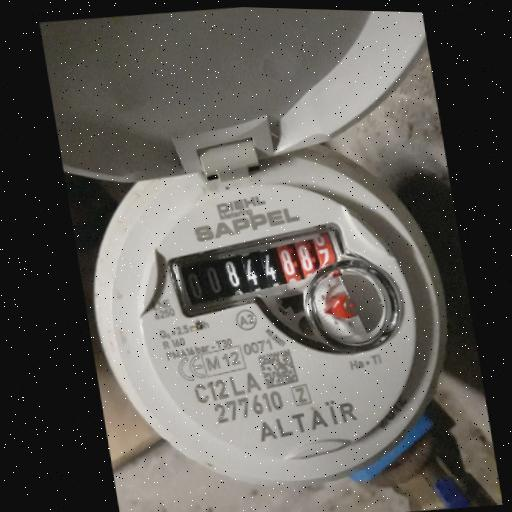0: (180, 263, 211, 306), (198, 258, 229, 301)
4: (254, 246, 286, 289), (236, 251, 267, 293)
7: (308, 230, 341, 272)
8: (273, 242, 305, 285), (217, 255, 248, 298), (291, 237, 322, 280)
border_water_meter_number: (159, 213, 363, 325)
